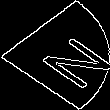N_NW: (10, 23, 100, 87)
